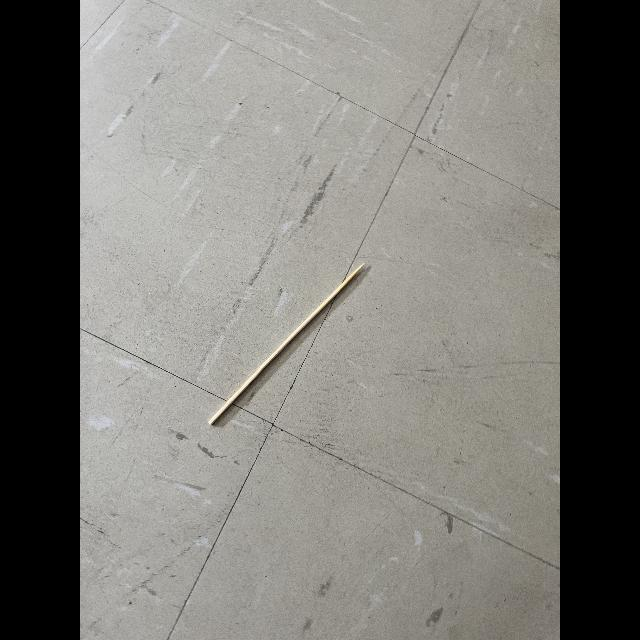stick: (198, 252, 382, 440)
